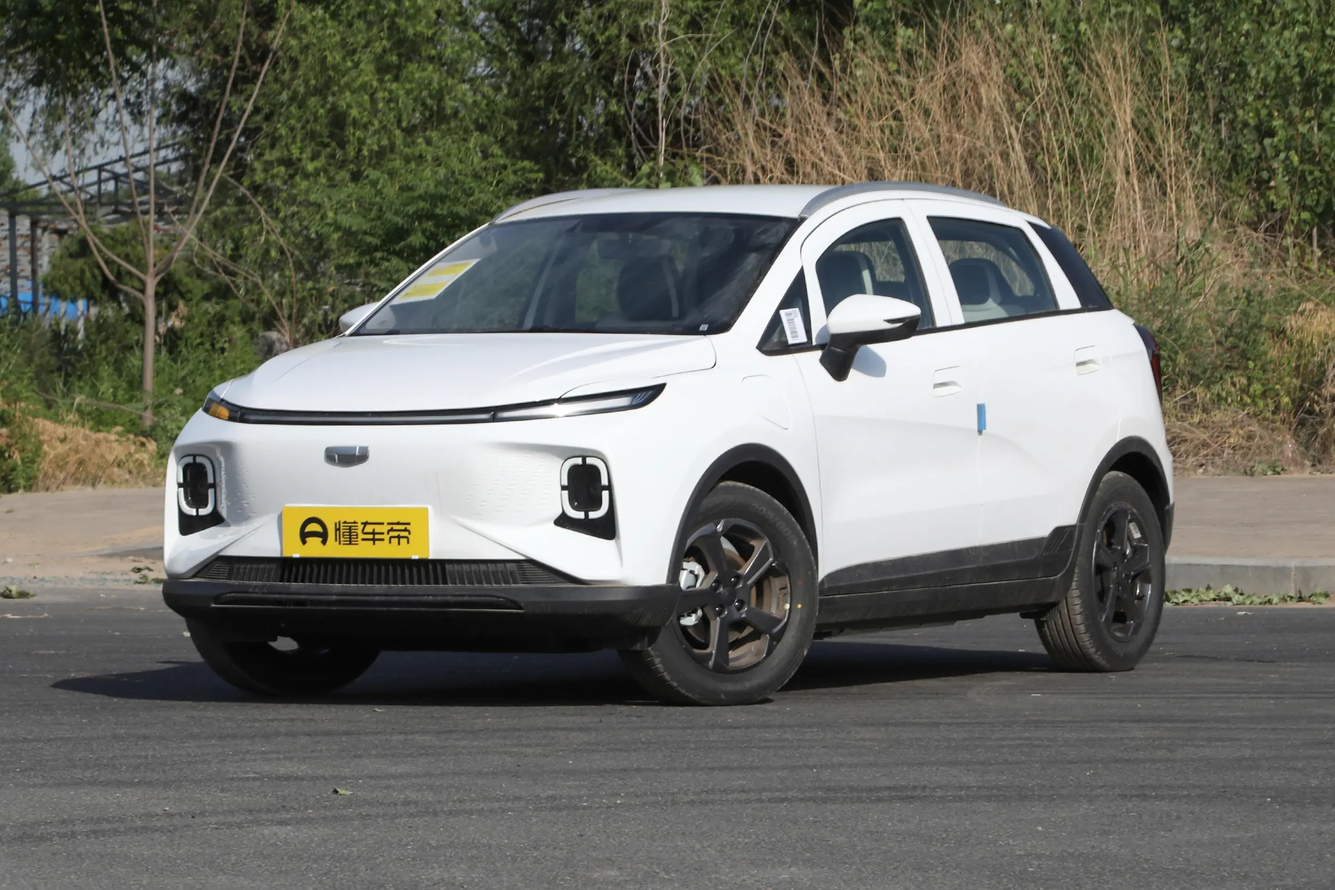GEOMETRY: (325, 446, 369, 465)
